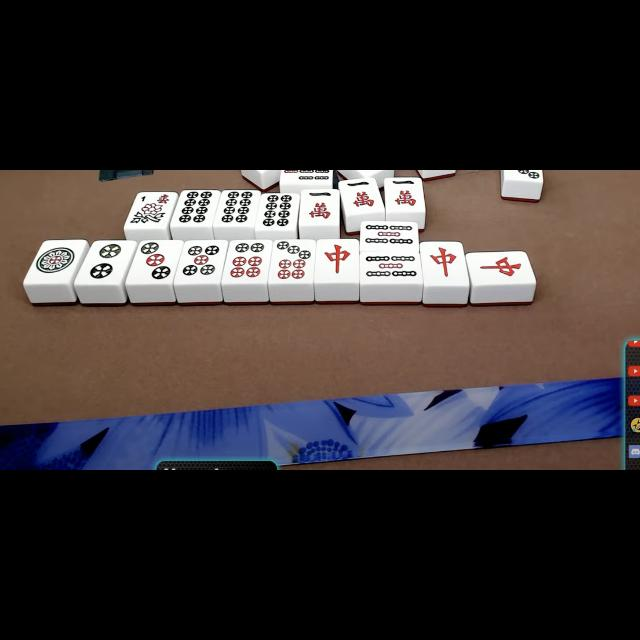b5: (362, 251, 421, 283), (362, 221, 418, 249)
c1: (302, 190, 338, 224), (386, 178, 422, 212), (344, 179, 380, 213)
d1: (29, 240, 79, 282)
d2: (80, 242, 128, 284)
d3: (133, 240, 177, 286)
d5: (178, 241, 224, 283)
d6: (226, 240, 270, 282)
d7: (270, 240, 314, 282)
d8: (175, 190, 215, 226), (259, 193, 297, 230), (218, 190, 256, 226)
dr: (471, 252, 531, 284), (424, 242, 466, 284), (316, 239, 358, 281)
s1: (134, 192, 172, 205)
